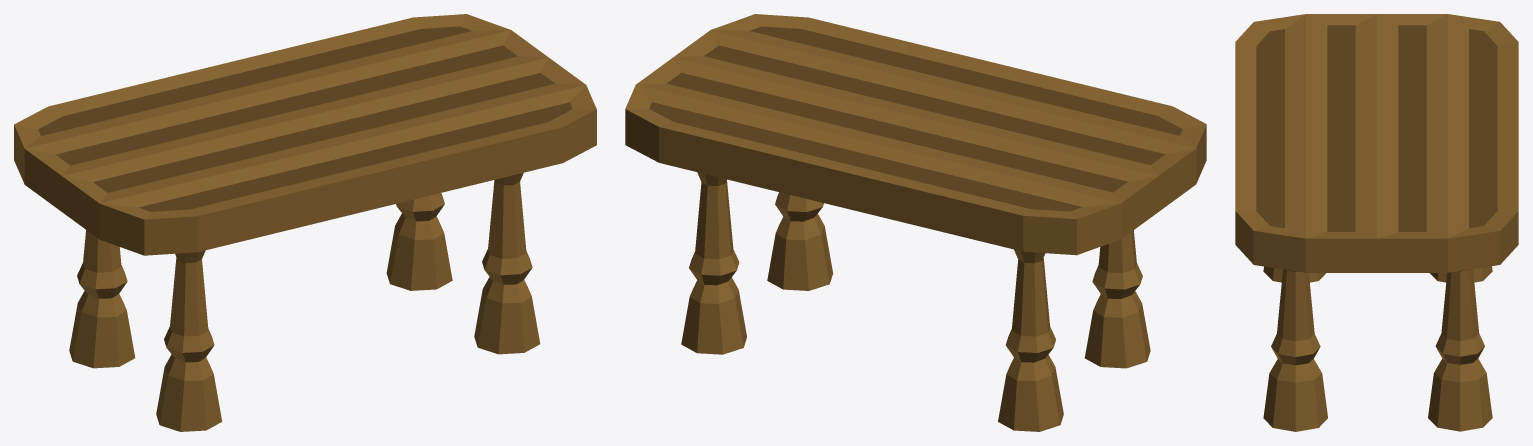
The model's file is CaptainTable.fbx.
3 renders of one model, left to right at view 1: azimuth 30°, elevation 25°; view 2: azimuth 150°, elevation 25°; view 3: azimuth 270°, elevation 25°, orthographic. The views are drawn at different scales.
Visible parts, largest first — view 1: Cube, Railing.001, Railing.036, Railing.002, Railing.003; view 2: Cube, Railing.002, Railing.003, Railing.001, Railing.036; view 3: Cube, Railing.003, Railing.036, Railing.001, Railing.002.
Boxes of the visible parts, x1,y1,x2,y2 form: Cube: (14, 14, 596, 255); Railing.001: (156, 250, 222, 431); Railing.036: (474, 173, 540, 354); Railing.002: (69, 230, 135, 368); Railing.003: (386, 193, 452, 290); Cube: (625, 14, 1206, 255); Railing.002: (998, 249, 1063, 431); Railing.003: (681, 172, 746, 354); Railing.001: (1084, 230, 1150, 368); Railing.036: (767, 192, 833, 290); Cube: (1235, 14, 1518, 272); Railing.003: (1428, 269, 1492, 431); Railing.036: (1263, 269, 1327, 431); Railing.001: (1263, 266, 1325, 282); Railing.002: (1430, 266, 1492, 282).
Size of the model in its own units: 1714 by 777 by 914.
